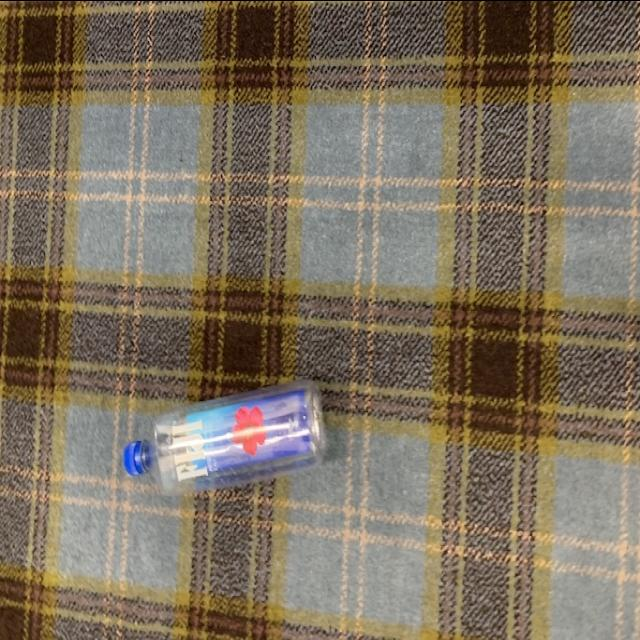PET: (119, 375, 327, 491)
